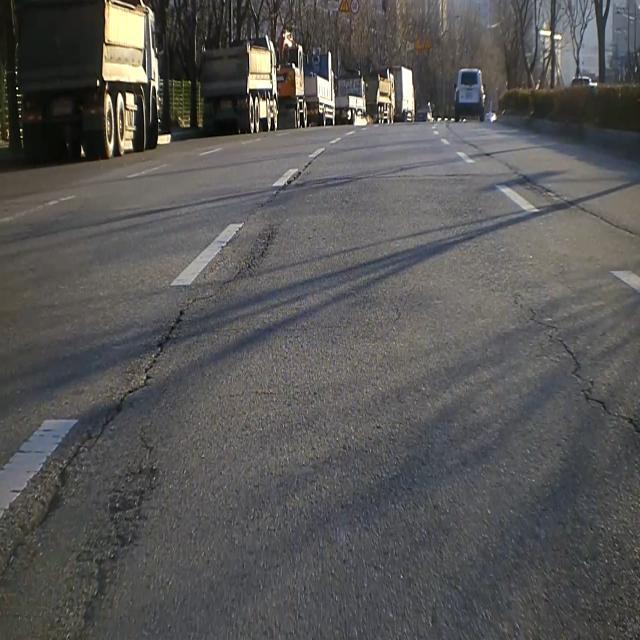pothole: (0, 305, 189, 583), (66, 426, 168, 640), (238, 223, 277, 279)
